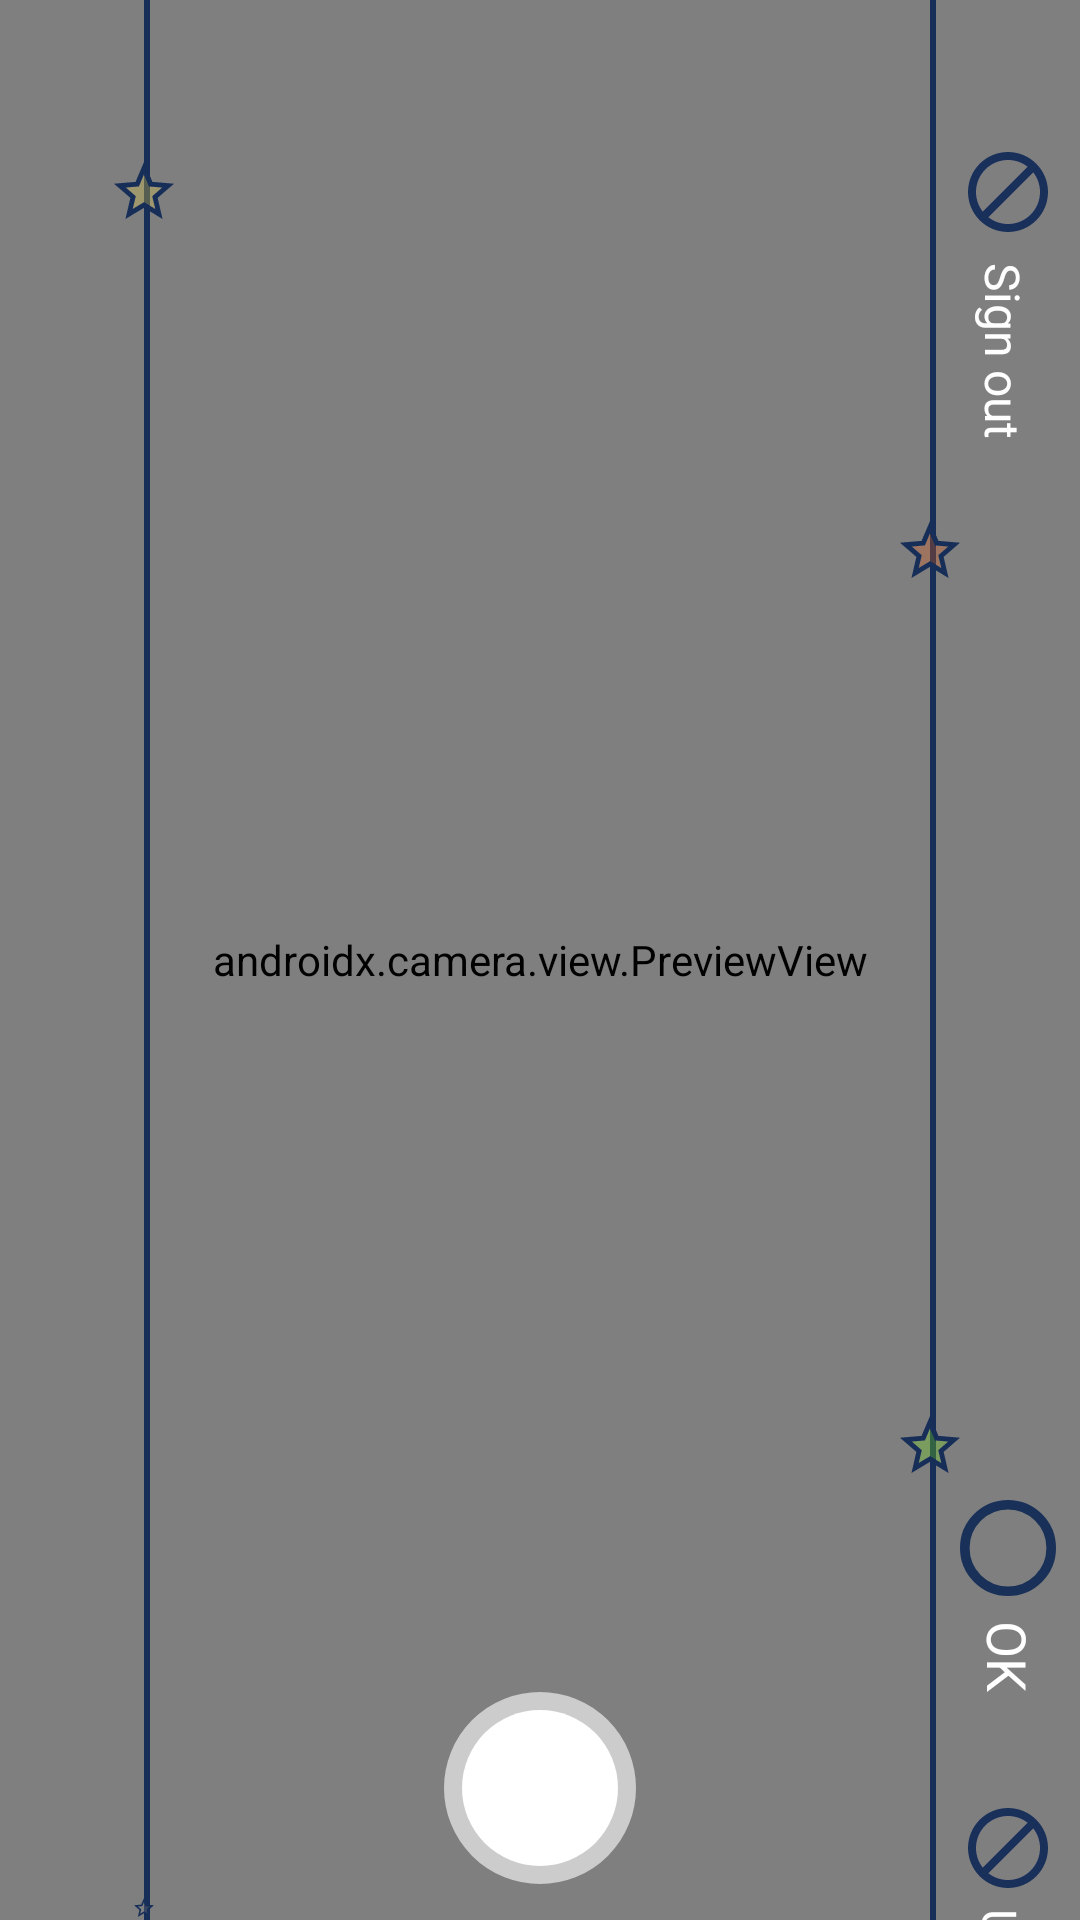

Locate icon controls on the screen. Image size 1080 x 1920, boxes as (x1, y1, x2, y2).
block: (968, 152, 1048, 232), (968, 1808, 1048, 1888)
camera click: (444, 1692, 636, 1884)
star: (115, 156, 173, 228), (901, 515, 959, 587), (901, 1410, 959, 1482), (134, 1896, 154, 1920)
